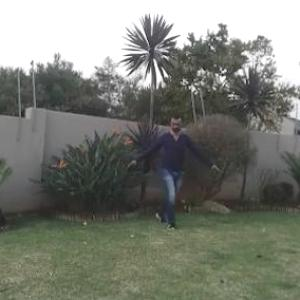land: (117, 105, 219, 234)
